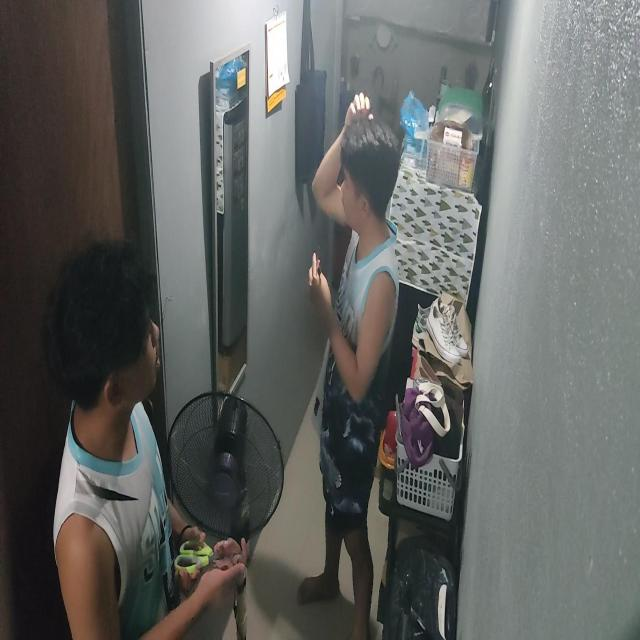scissor: (174, 536, 244, 574)
